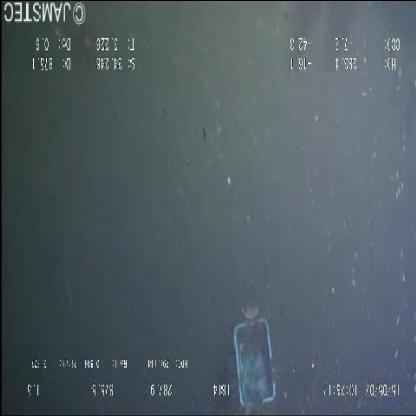Rác: (231, 305, 279, 413)
